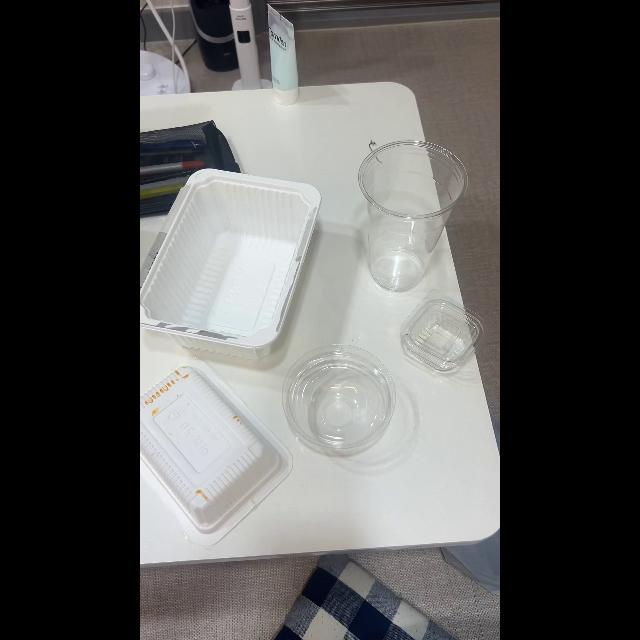clean: (140, 171, 322, 351), (362, 146, 462, 288), (284, 347, 396, 451), (400, 294, 486, 370)
dirty: (140, 366, 274, 522)
